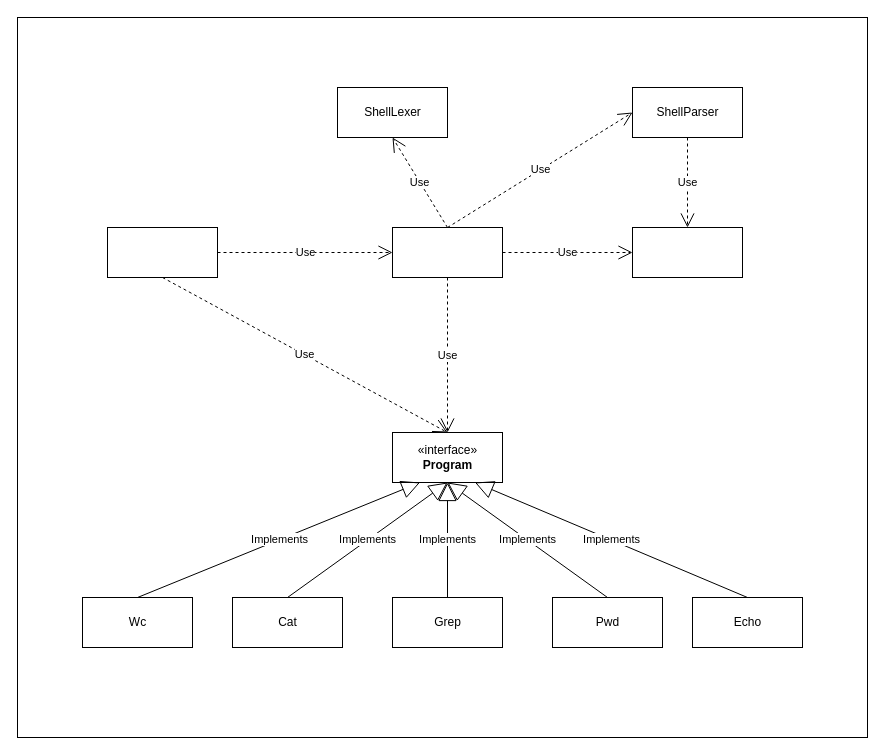
The diagram is 885 pixels wide and 755 high, and some of its shapes have lost their labels. Each missing label, with the centre of its shape:
Command: pixel 687 252
Shell: pixel 447 252
ShellBuilder: pixel 162 252
